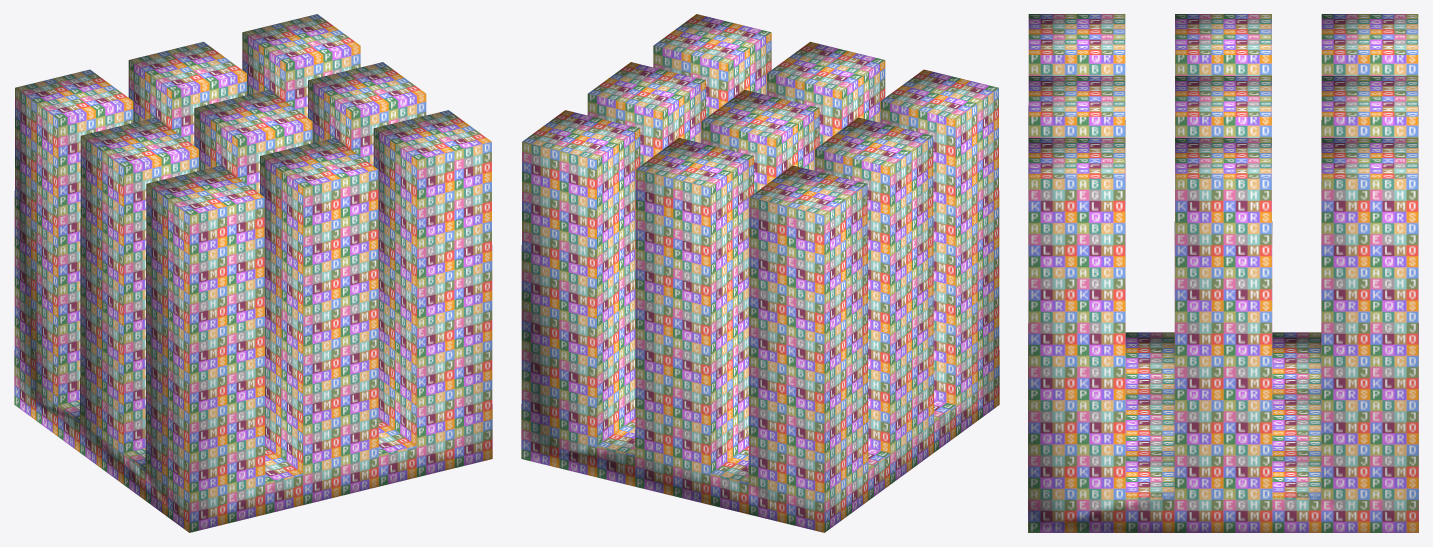
File: Fortif.obj
3 renders of one model, left to right at view 1: azimuth 30°, elevation 25°; view 2: azimuth 150°, elevation 25°; view 3: azimuth 270°, elevation 25°, orthographic. The views are drawn at different scales.
Parts seen in each view (by area): view 1: cube1; view 2: cube1; view 3: cube1.
Part boxes in pixels (<box>): cube1: <box>14,14,492,532</box>; cube1: <box>521,14,999,532</box>; cube1: <box>1028,14,1418,532</box>.
Size of the model in its own units: 1 by 1 by 1.
1 material, 1 textured.
